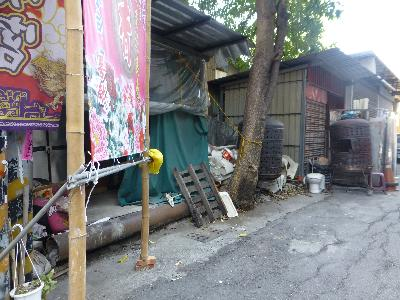plastic_bag: (121, 113, 213, 206)
toilet: (306, 172, 327, 196)
